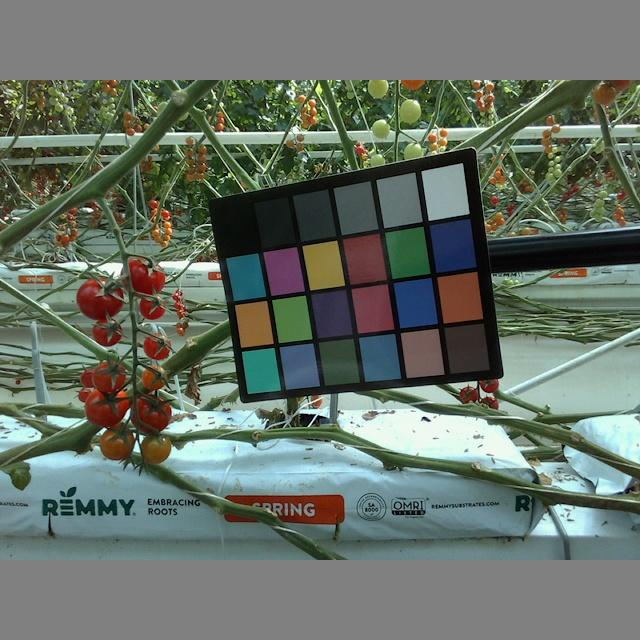green: (400, 98, 421, 124), (402, 141, 424, 163), (370, 116, 390, 137), (367, 81, 389, 98), (364, 151, 385, 167)
pink: (100, 423, 136, 459), (139, 432, 170, 464), (142, 331, 172, 360), (140, 365, 167, 390)
red: (76, 275, 125, 319), (119, 259, 166, 295), (128, 394, 170, 433), (85, 388, 128, 426), (93, 361, 125, 394), (93, 316, 122, 347), (139, 294, 166, 320)
